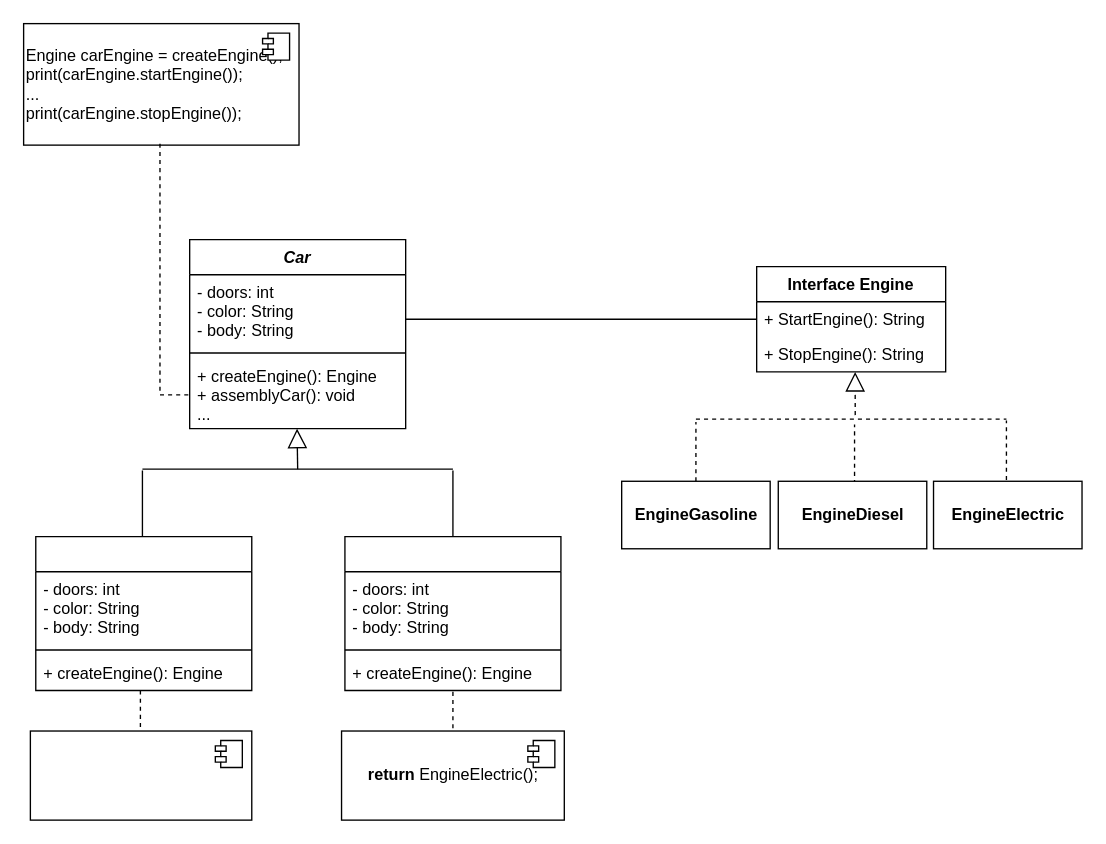
This 1106x844 diagram has some shape labels left out. The box of each missing label's shape, as (x1, y1, x2, y2) in pixels:
LadaPriora: (34, 535, 252, 691)
NissanLeaf: (344, 535, 561, 691)
return EngineGasoline();: (29, 730, 252, 820)
